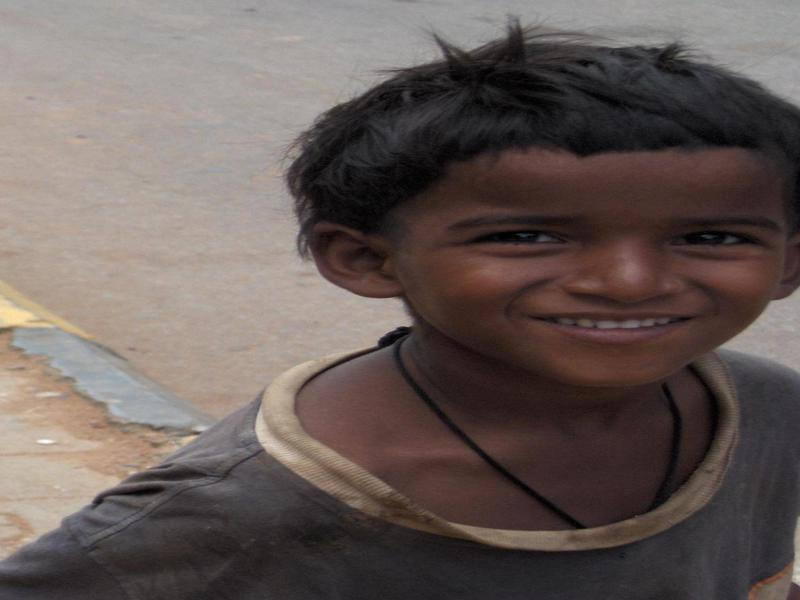person: (19, 37, 794, 600)
